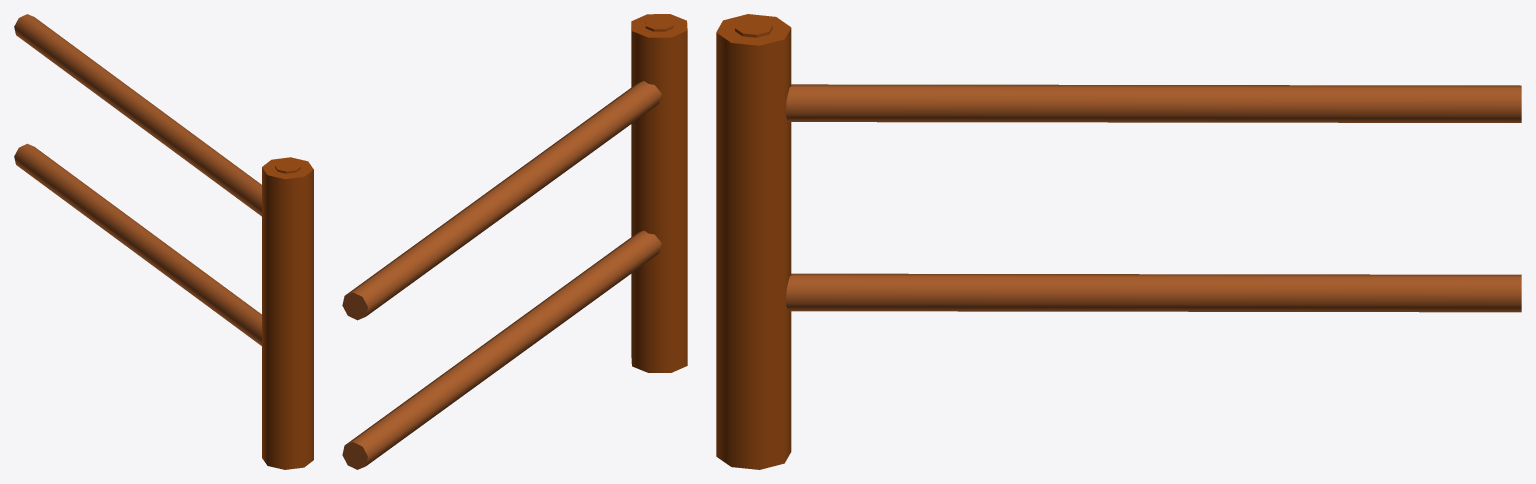
Rendered from Fence #2.FBX.
3 renders of one model, left to right at view 1: azimuth 30°, elevation 25°; view 2: azimuth 150°, elevation 25°; view 3: azimuth 270°, elevation 25°, orthographic. The views are drawn at different scales.
Visible parts, largest first — view 1: Cylinder001, Cylinder003, Cylinder004; view 2: Cylinder001, Cylinder004, Cylinder003; view 3: Cylinder001, Cylinder004, Cylinder003.
Part boxes in pixels (left/top/right/bottom): Cylinder001: left=262, top=157, right=313, bottom=469; Cylinder003: left=14, top=14, right=261, bottom=216; Cylinder004: left=14, top=143, right=261, bottom=345; Cylinder001: left=631, top=14, right=687, bottom=372; Cylinder004: left=342, top=230, right=661, bottom=469; Cylinder003: left=342, top=81, right=661, bottom=320; Cylinder001: left=716, top=14, right=791, bottom=469; Cylinder004: left=786, top=273, right=1521, bottom=312; Cylinder003: left=786, top=84, right=1521, bottom=122.
Size of the model in its own units: 8.18 by 51.18 by 87.48.
